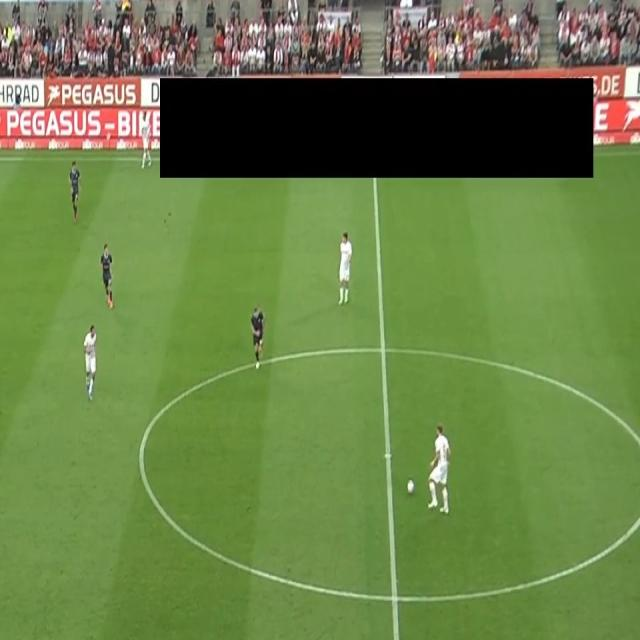ball: (406, 478, 415, 494)
